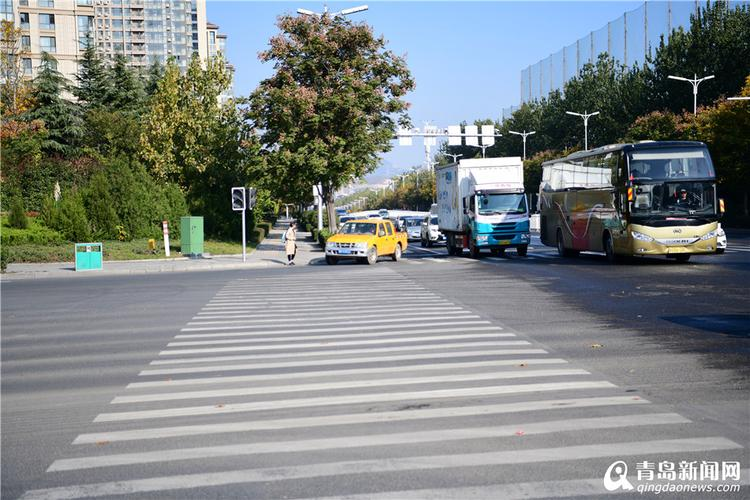bus: (538, 142, 727, 263)
car: (324, 220, 408, 265), (419, 211, 443, 248), (401, 214, 427, 242)
person: (283, 222, 299, 266), (670, 188, 697, 208)
traffic light: (228, 183, 250, 215)
truck: (432, 157, 532, 259)
